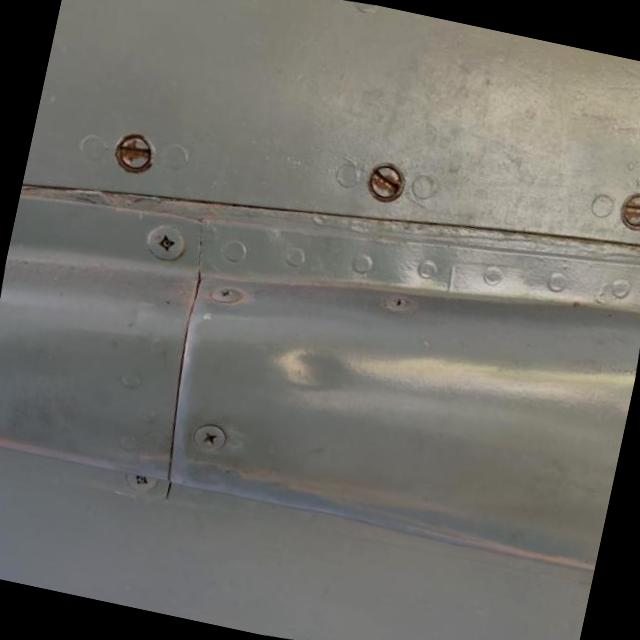dent: (258, 324, 374, 425)
